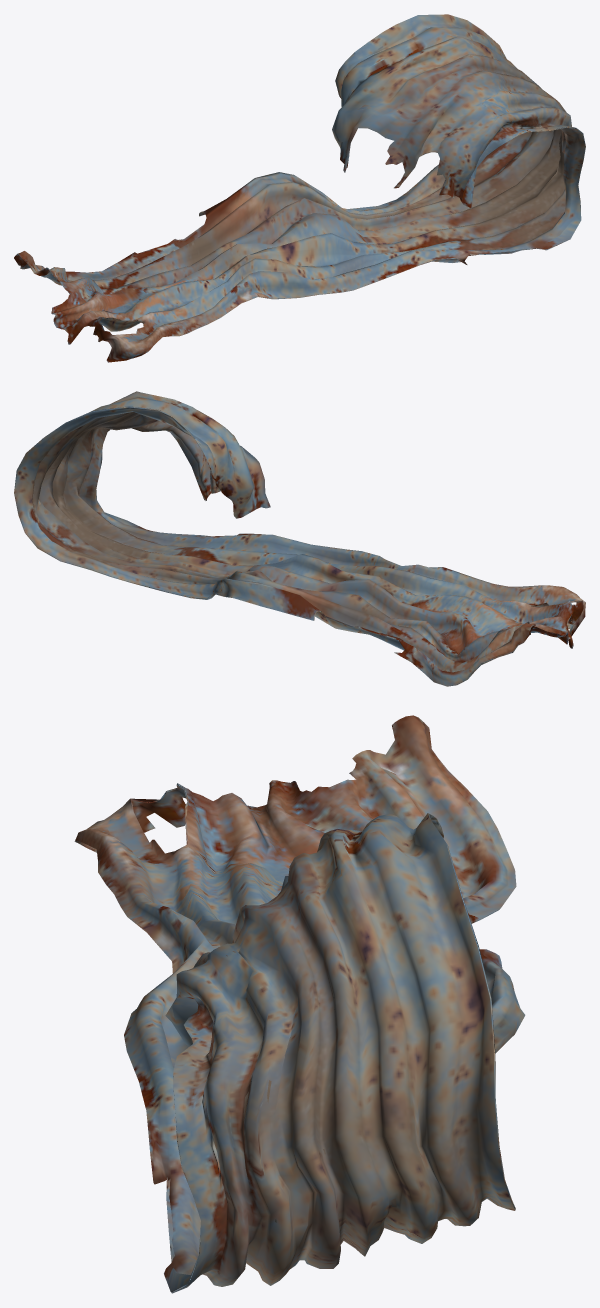
Rendered from MOD_DebrisCorrugated_C.fbx.
3 views of the same model, one above another, from view 1: azimuth 30°, elevation 25°; view 2: azimuth 150°, elevation 25°; view 3: azimuth 270°, elevation 25° (orthographic). The views are drawn at different scales.
Visible parts, largest first — view 1: MOD_DebrisCorrugated_C; view 2: MOD_DebrisCorrugated_C; view 3: MOD_DebrisCorrugated_C.
Boxes of the visible parts, x1=… form: MOD_DebrisCorrugated_C: x1=14, y1=14, x2=585, y2=362; MOD_DebrisCorrugated_C: x1=14, y1=391, x2=585, y2=686; MOD_DebrisCorrugated_C: x1=74, y1=715, x2=525, y2=1293.
Bounding box in the file's own units: 136 × 49.6 × 51.84.
